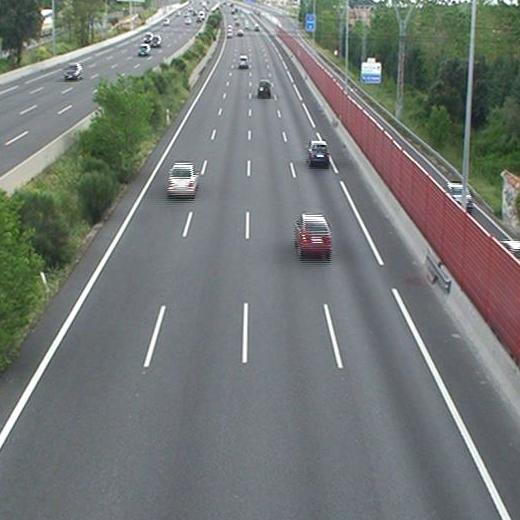car: (295, 214, 332, 255), (167, 164, 197, 195), (308, 140, 330, 163), (258, 81, 271, 94), (238, 56, 248, 68)
